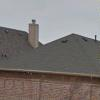Chimney: (22, 15, 45, 56)
